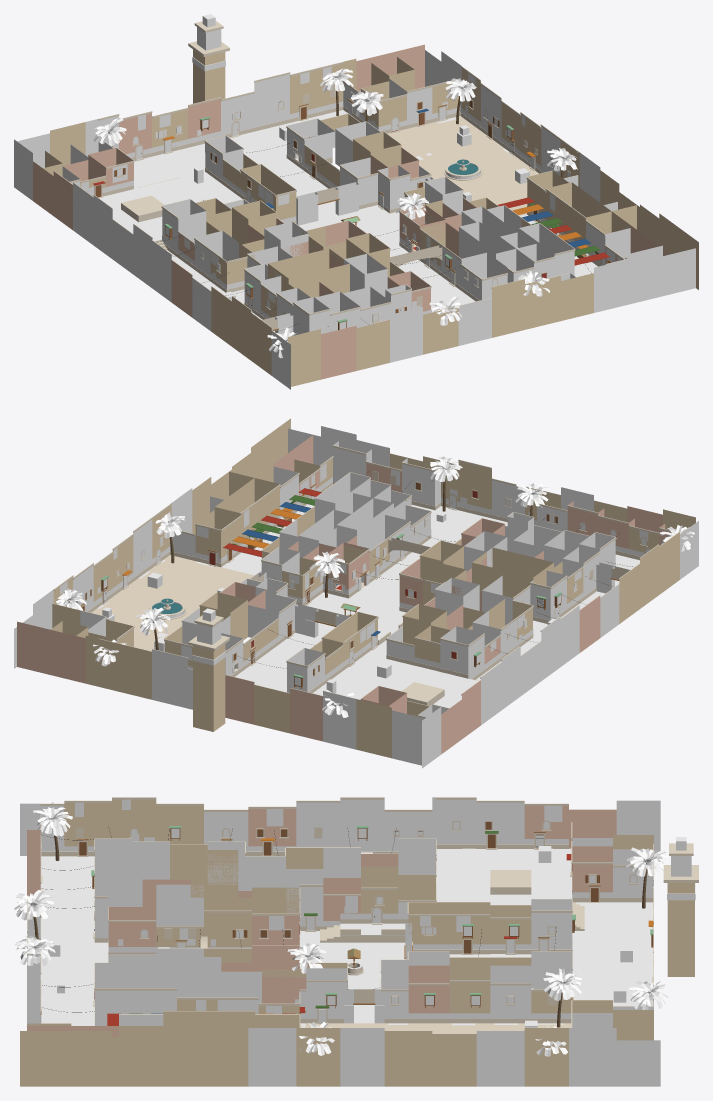
Rendered from medina.glb.
3 renders of one model, top to bottom at view 1: azimuth 30°, elevation 25°; view 2: azimuth 150°, elevation 25°; view 3: azimuth 270°, elevation 25°, orthographic. The views are drawn at different scales.
Parts seen in each view (by area): view 1: medina; view 2: medina; view 3: medina.
Part boxes in pixels (x1,y1,x2,y2): medina: (14,14,698,389); medina: (14,418,698,768); medina: (14,797,698,1086).
Bounding box in the file's own units: 82.94 × 21.4 × 100.
